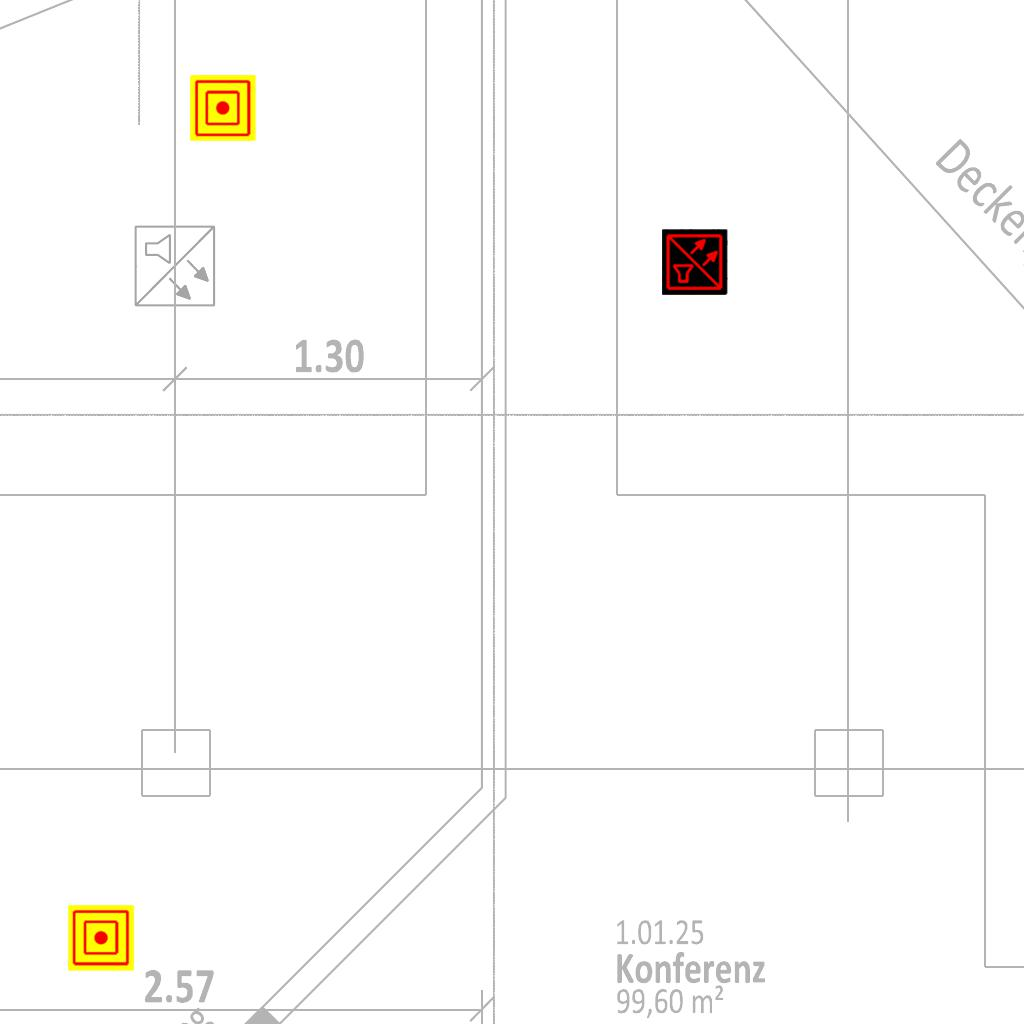NAM-Nichtautomatischer_Melder: (68, 905, 134, 971), (190, 75, 256, 141)
OKW_Multisensormelder_(Kombination_optischer_Rauch-Kahlenmonoxid_Waerme-Melder): (662, 229, 728, 295)
